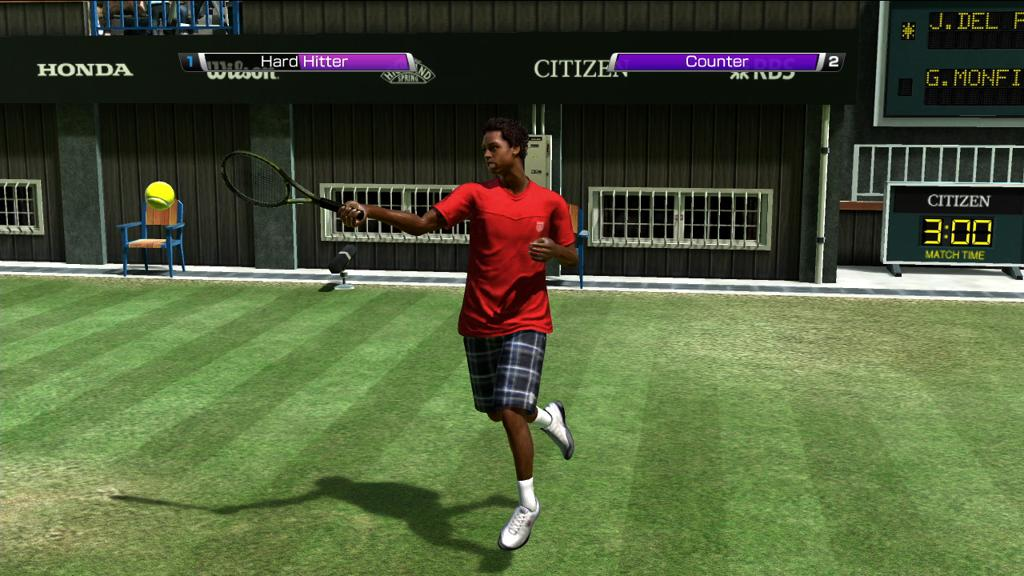face: (481, 134, 512, 172)
